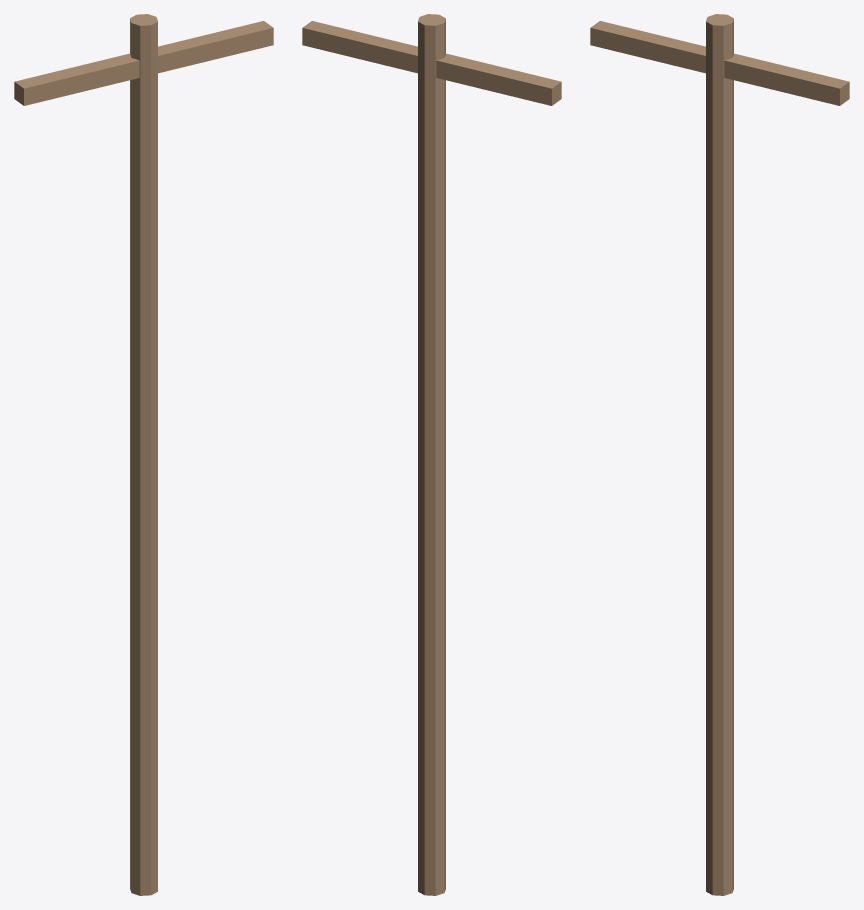
File: utility_pole_crossarm.glb
The picture shows the model from 3 angles, left to right: view 1: azimuth 30°, elevation 25°; view 2: azimuth 150°, elevation 25°; view 3: azimuth 330°, elevation 25°; orthographic projection.
Parts seen in each view (by area): view 1: pole, cross; view 2: pole, cross; view 3: pole, cross.
Boxes of the visible parts, x1=… form: pole: x1=130, y1=14, x2=157, y2=895; cross: x1=14, y1=21, x2=273, y2=105; pole: x1=418, y1=14, x2=445, y2=895; cross: x1=302, y1=21, x2=561, y2=105; pole: x1=706, y1=14, x2=733, y2=895; cross: x1=590, y1=21, x2=849, y2=105.
Bounding box in the file's own units: 2.4 × 8 × 0.2422.
